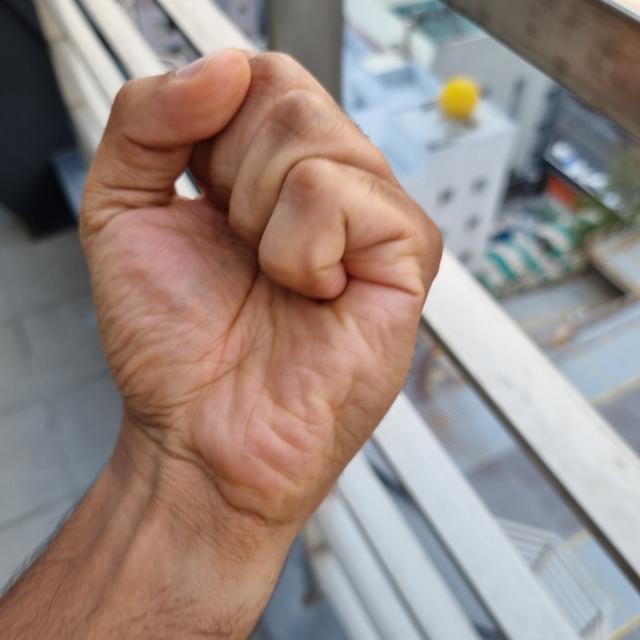Rock: (81, 51, 442, 528)
